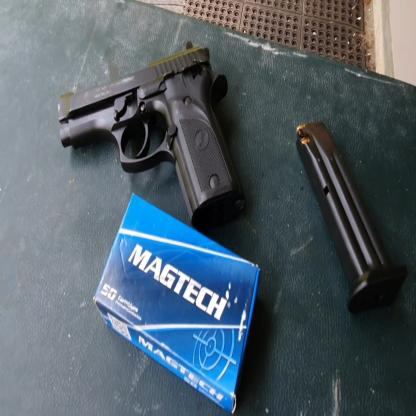handgun: (53, 35, 244, 232)
